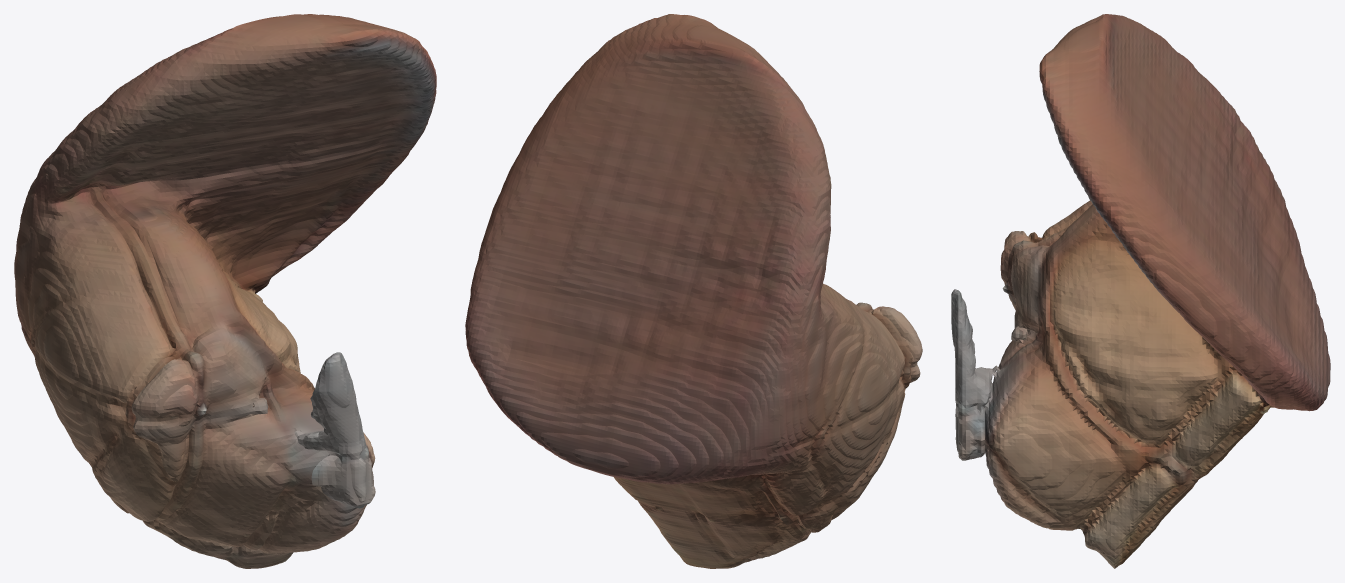
3 views of the same model, side by side, from view 1: azimuth 30°, elevation 25°; view 2: azimuth 150°, elevation 25°; view 3: azimuth 270°, elevation 25° (orthographic). The views are drawn at different scales.
Visible parts, largest first — view 1: world; view 2: world; view 3: world.
Part boxes in pixels (x1,y1,x2,y2): world: (14, 14, 436, 568); world: (465, 14, 922, 568); world: (951, 14, 1330, 568).
Bounding box in the file's own units: 0.7495 × 1.04 × 0.6792.
